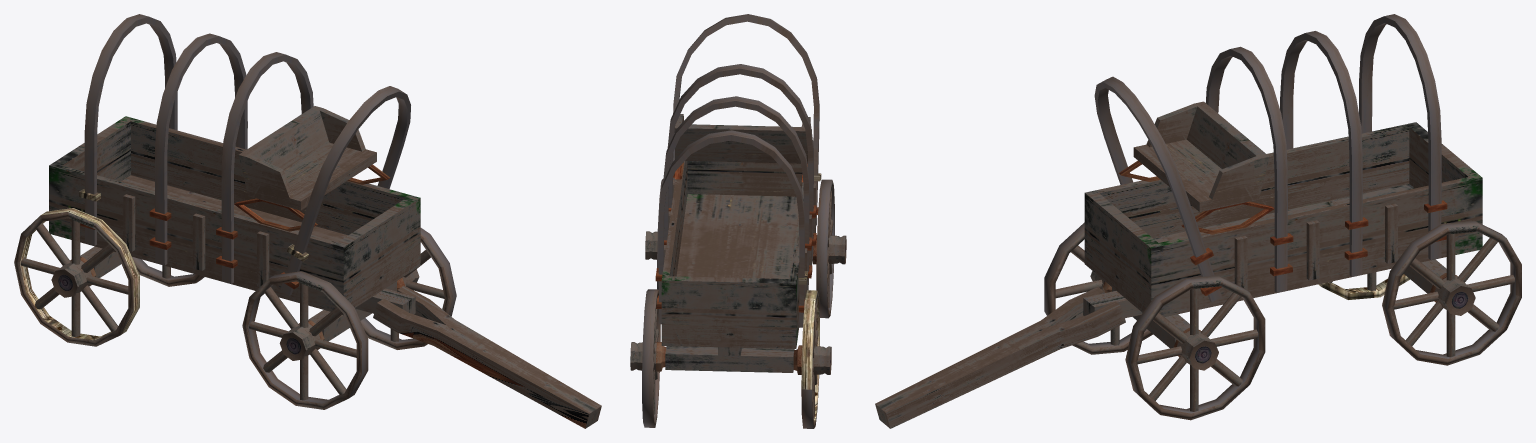
The model's file is Cart.fbx.
3 views of the same model, side by side, from view 1: azimuth 30°, elevation 25°; view 2: azimuth 150°, elevation 25°; view 3: azimuth 270°, elevation 25° (orthographic). The views are drawn at different scales.
Parts seen in each view (by area): view 1: polySurface244; view 2: polySurface244; view 3: polySurface244.
Part boxes in pixels (<box>): polySurface244: <box>14,14,601,428</box>; polySurface244: <box>630,14,846,428</box>; polySurface244: <box>875,14,1521,428</box>.
Size of the model in its own units: 15.39 by 13.32 by 25.06.
